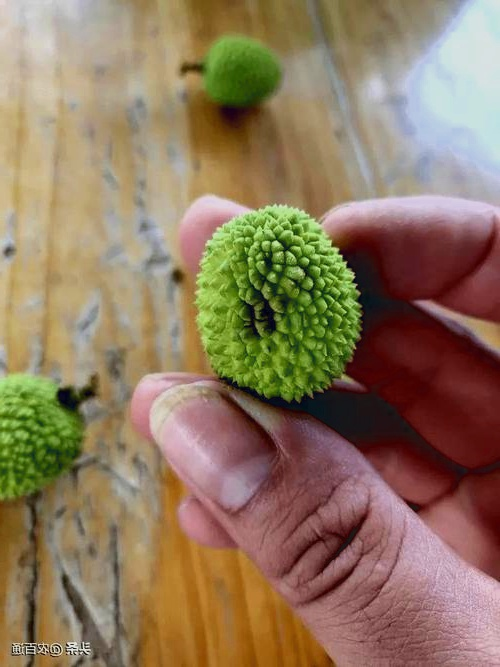Anthracnose: (222, 290, 308, 357)
